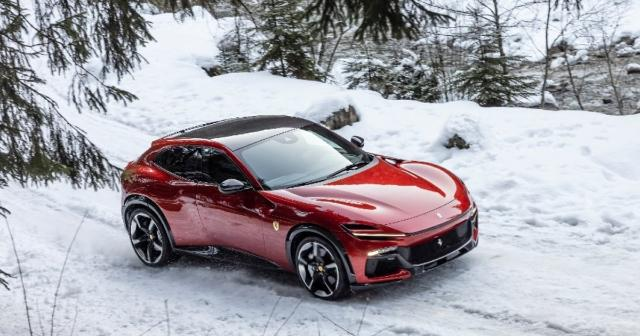ferrari: (121, 114, 479, 300)
